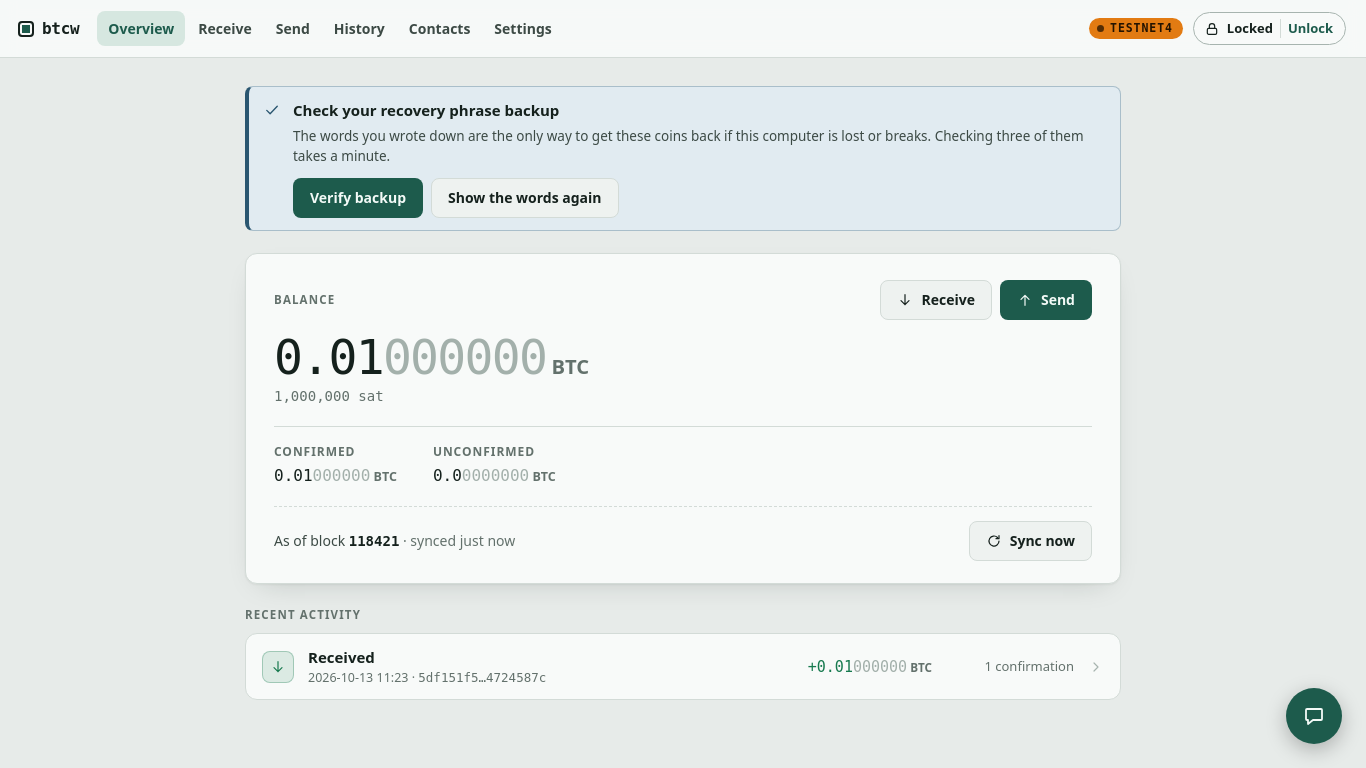
it: verify backup › can switch to showing the words
Expected: the heading "Balance" is shown, x1=274 y1=291 x2=335 y2=309
Expected: the text "As of block 118421 · synced just now" is shown, x1=274 y1=530 x2=515 y2=552
Click the button "Verify backup": (358, 198) x1=293 y1=178 x2=423 y2=218
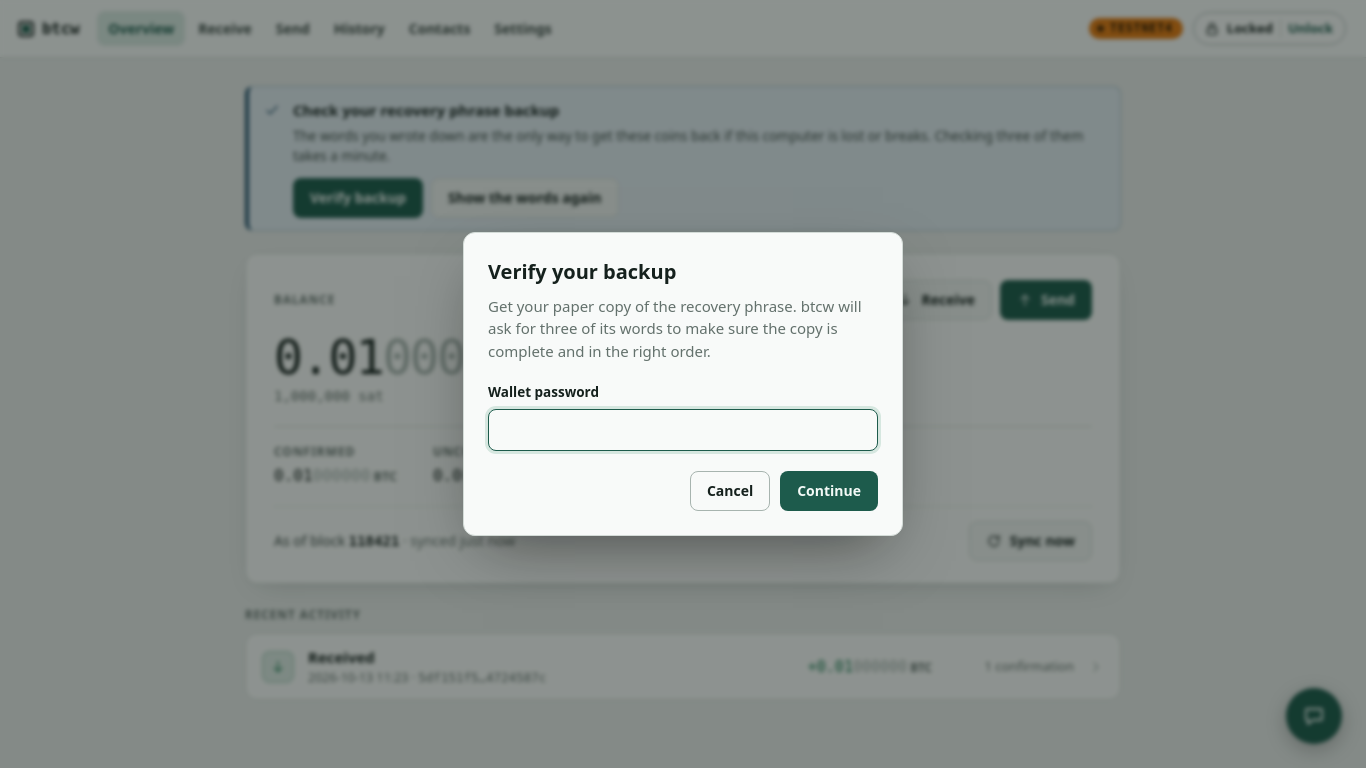
In the password field labelled "Wallet password": (683, 430) x1=488 y1=409 x2=878 y2=451, type "correct horse battery"
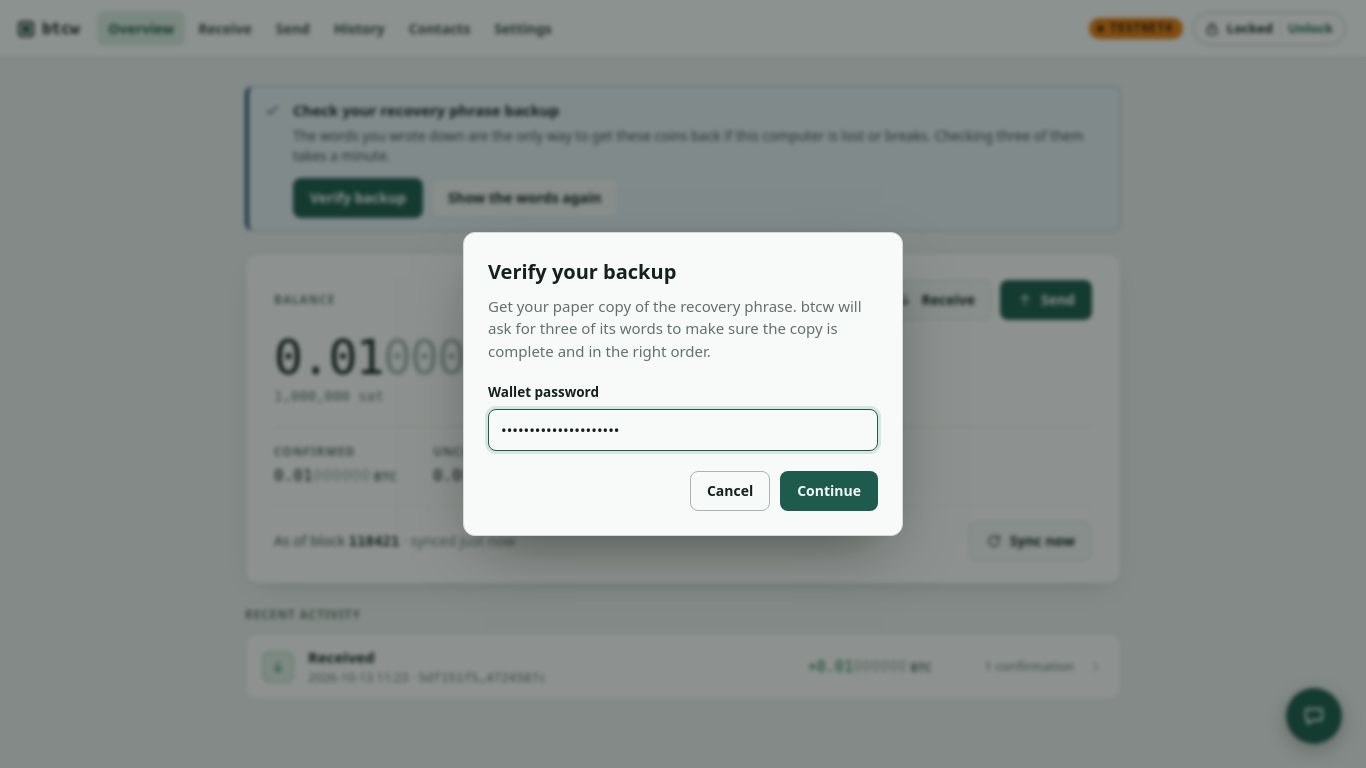
Click the button "Continue": (829, 491) x1=780 y1=471 x2=878 y2=511
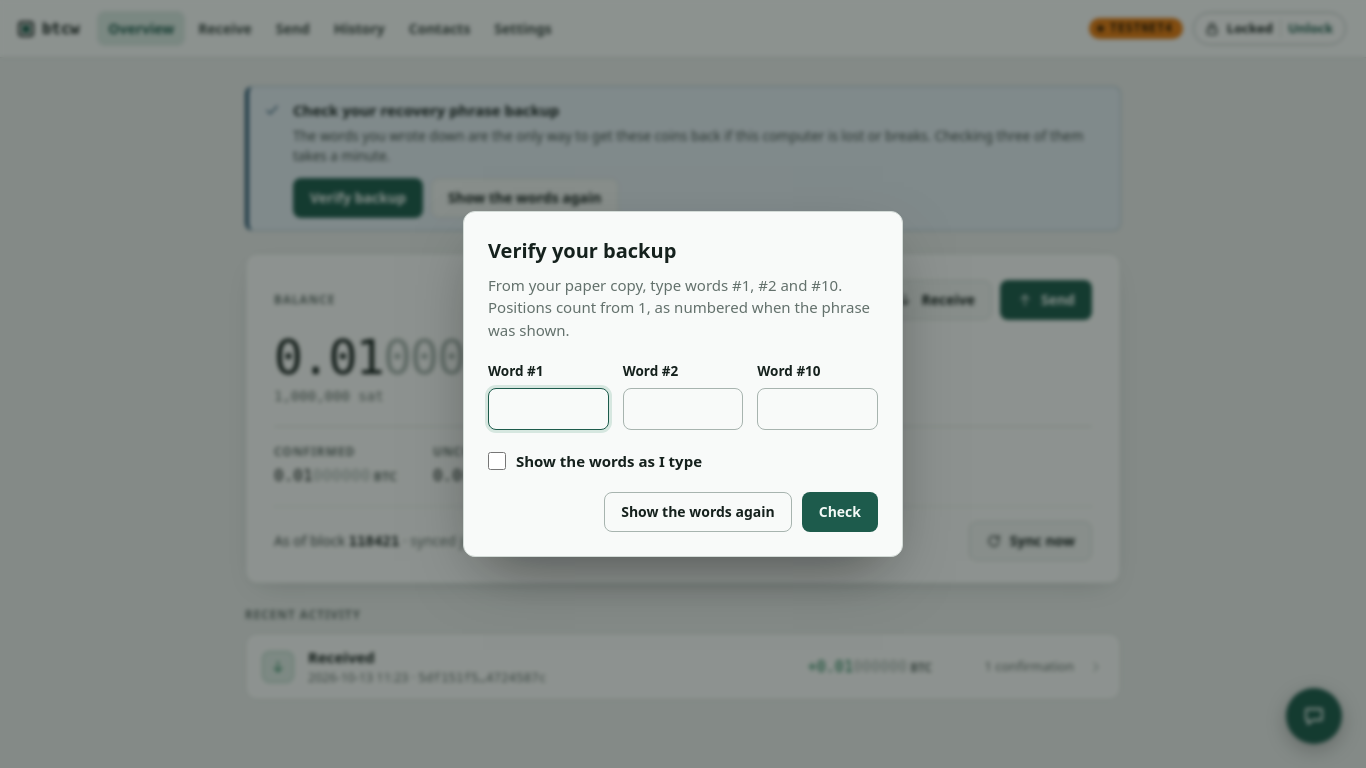
Click the button "Show the words again": (698, 512) x1=604 y1=492 x2=792 y2=532
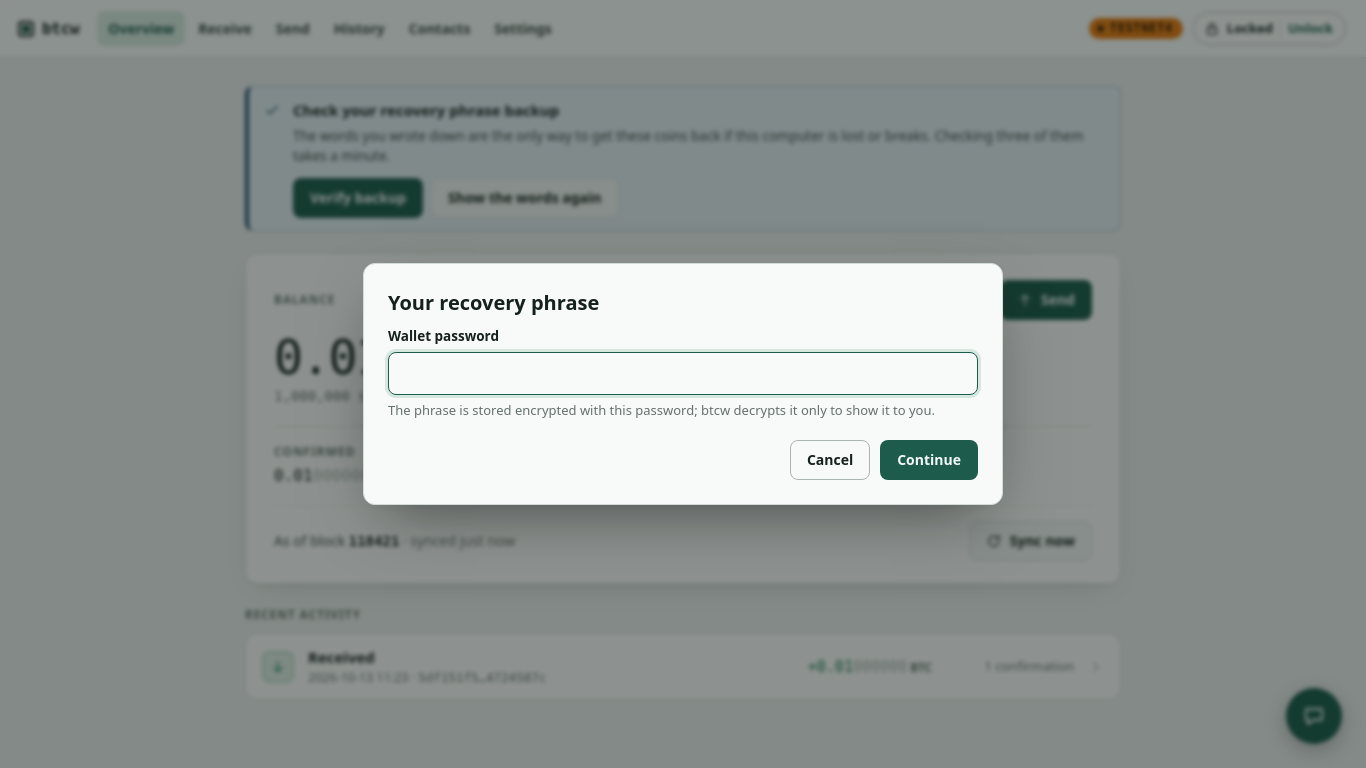
Expected: the dialog "Your recovery phrase" is shown, x1=363 y1=263 x2=1003 y2=505
